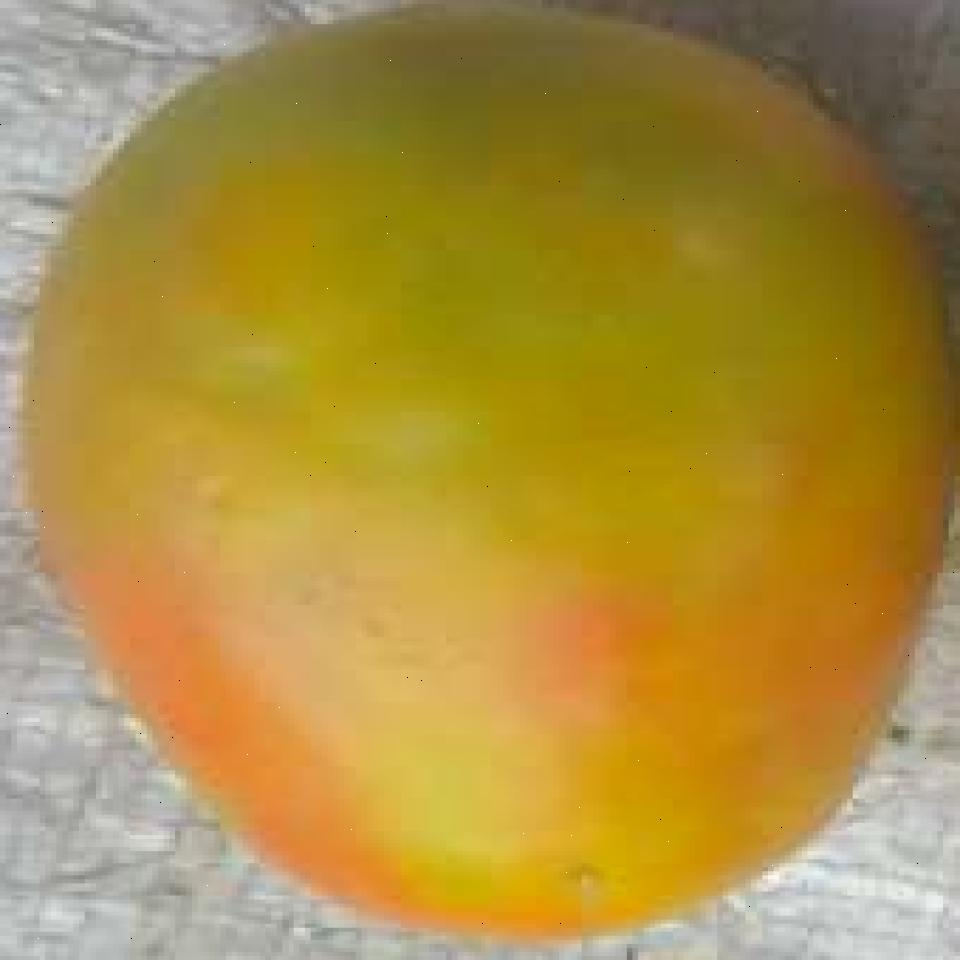Spotted wilt Virus: (28, 12, 960, 940)
